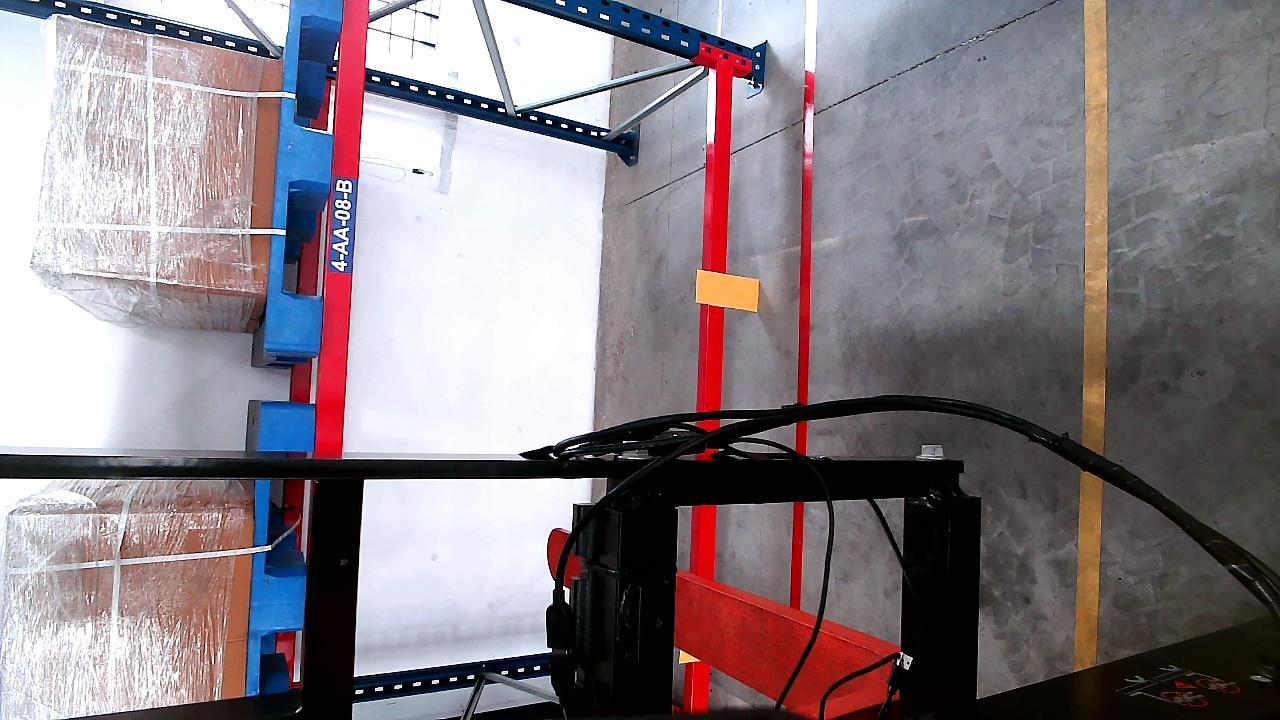red_line: (789, 1, 816, 601)
yellow_line: (1077, 1, 1108, 670)
